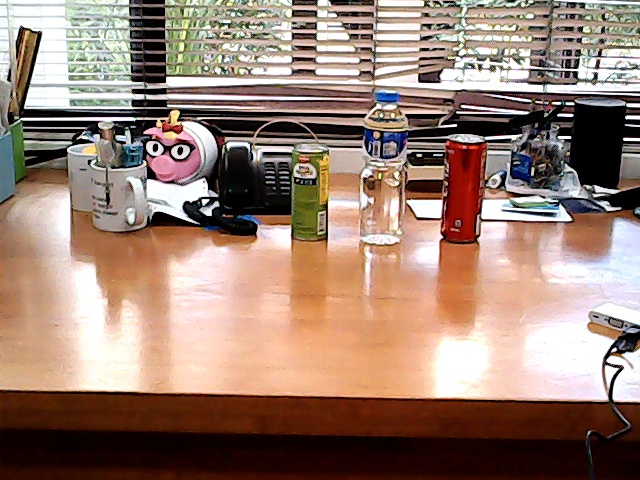Cola: (427, 124, 497, 251)
Pine Juice: (274, 134, 343, 252)
Summit Water: (350, 81, 418, 256)
